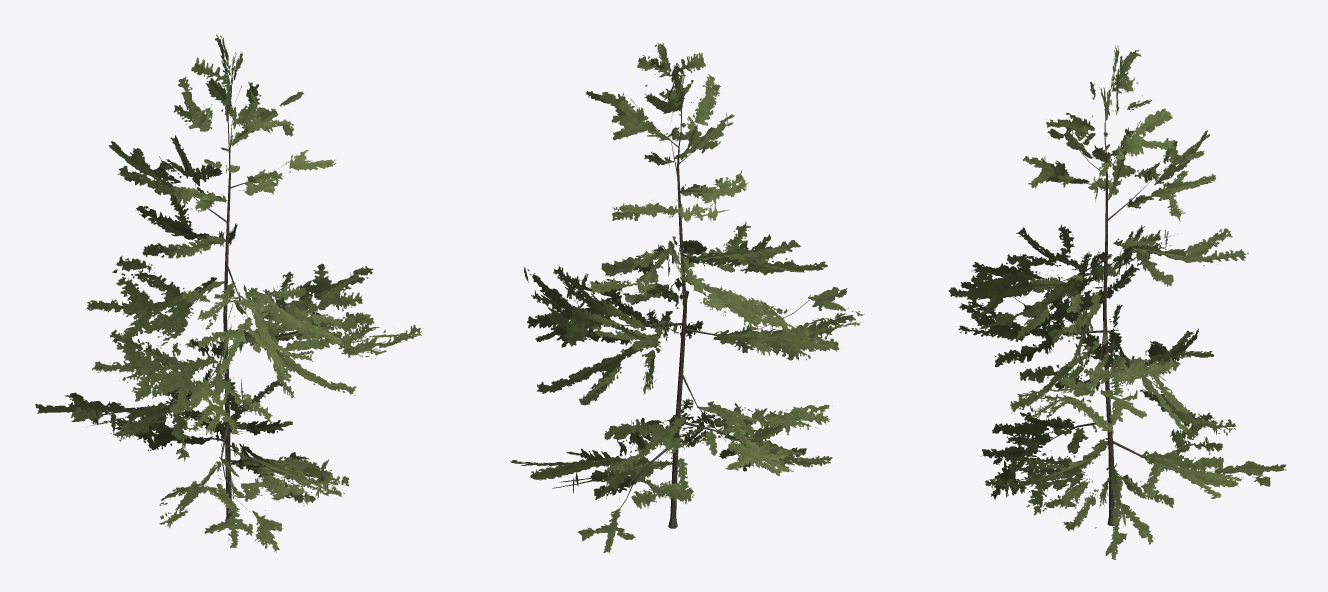
Rendered from bush_fir_a_lod0.glb.
3 renders of one model, left to right at view 1: azimuth 30°, elevation 25°; view 2: azimuth 150°, elevation 25°; view 3: azimuth 270°, elevation 25°, orthographic. The views are drawn at different scales.
Parts seen in each view (by area): view 1: bush_fir_a_lod0_needles, bush_fir_a_lod0_branches_fir_sapling_branches; view 2: bush_fir_a_lod0_needles, bush_fir_a_lod0_branches_fir_sapling_branches; view 3: bush_fir_a_lod0_needles, bush_fir_a_lod0_branches_fir_sapling_branches.
Boxes of the visible parts, x1,y1,x2,y2 form: bush_fir_a_lod0_needles: (35,34,422,552); bush_fir_a_lod0_branches_fir_sapling_branches: (156,85,293,522); bush_fir_a_lod0_needles: (510,43,864,553); bush_fir_a_lod0_branches_fir_sapling_branches: (602,98,809,528); bush_fir_a_lod0_needles: (948,45,1286,559); bush_fir_a_lod0_branches_fir_sapling_branches: (1012,104,1216,525).
Bounding box in the file's own units: 0.9766 × 1.35 × 0.9654.
2 materials, 2 textured.
